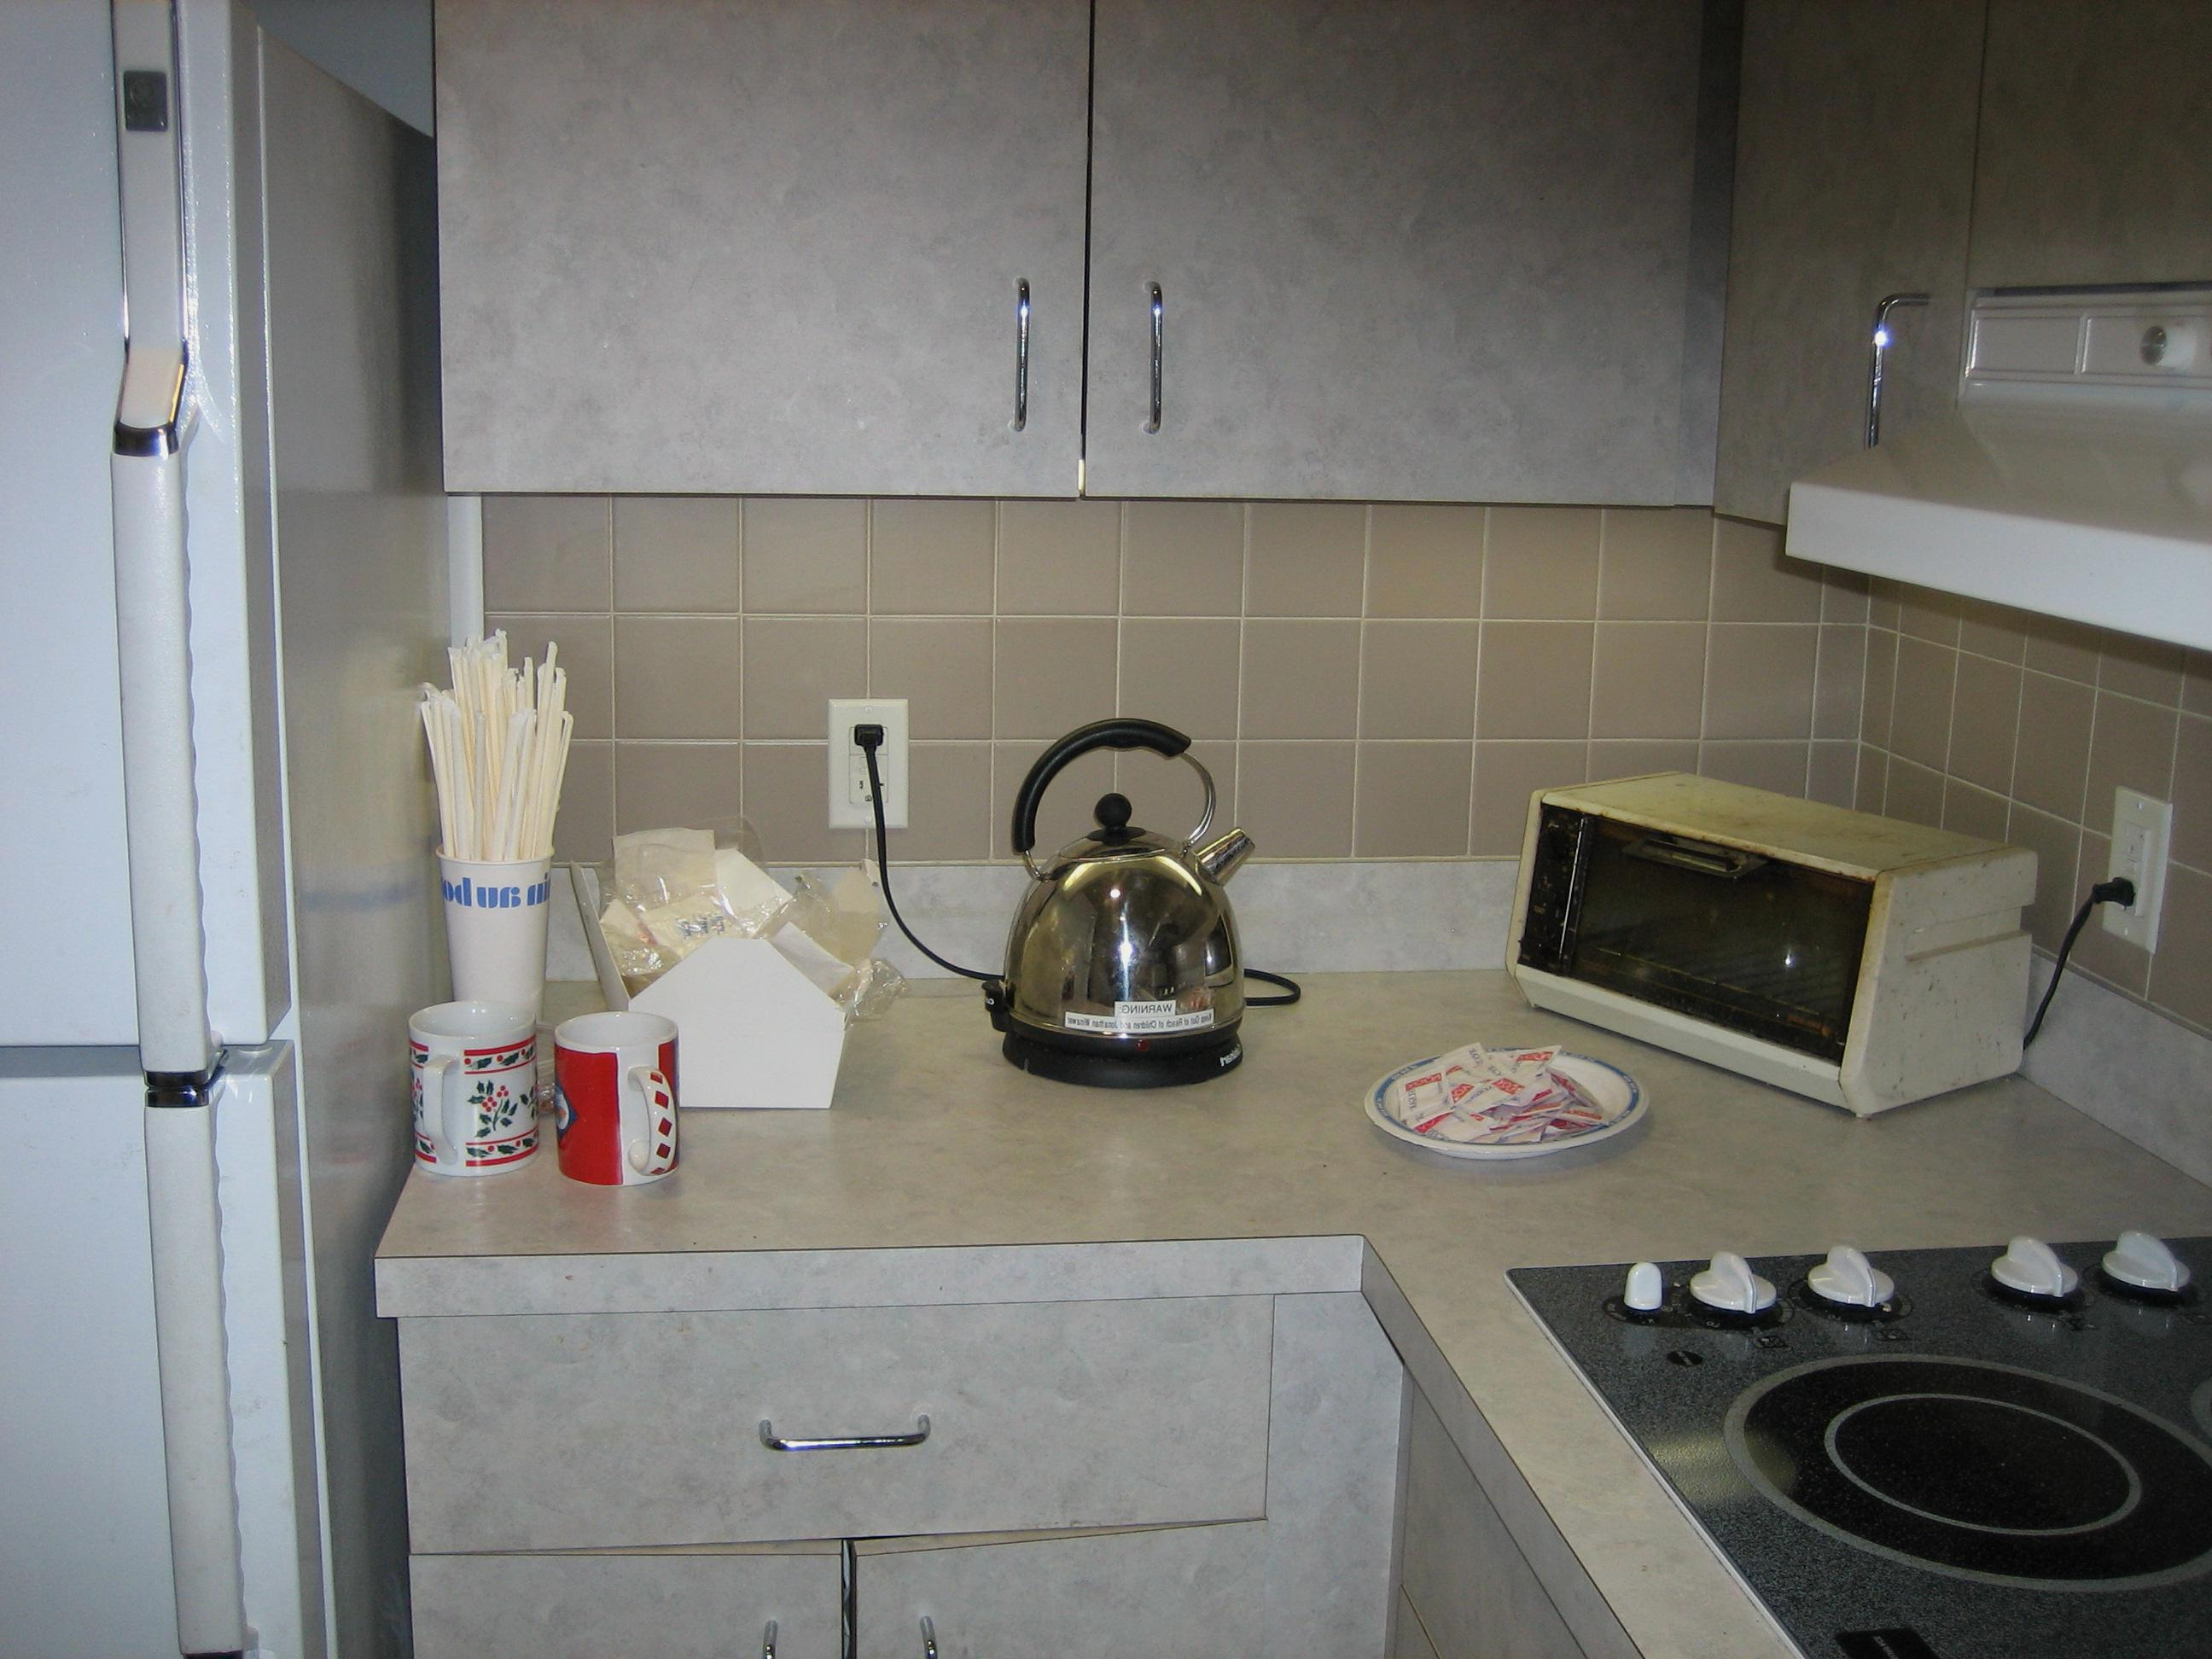Electrodomestico: (9, 84, 408, 1650), (1465, 1215, 2193, 1652)
